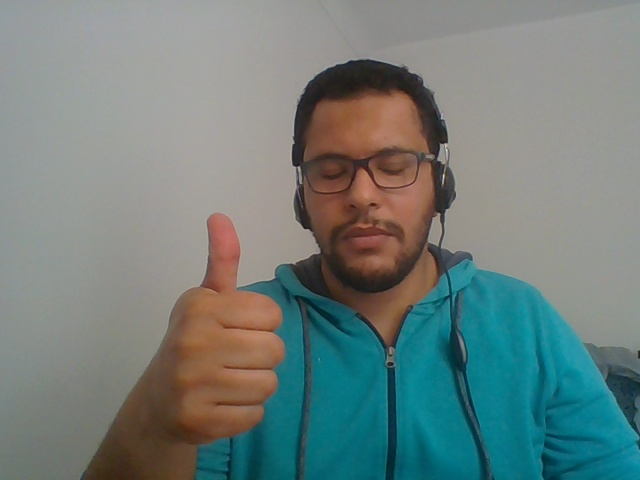ok: (118, 204, 294, 478)
